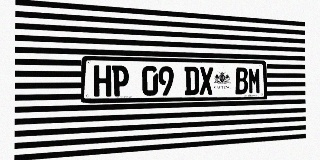0: (142, 66, 158, 96)
9: (158, 66, 174, 96)
B: (235, 67, 248, 94)
D: (184, 67, 199, 95)
H: (94, 65, 111, 97)
M: (248, 68, 261, 94)
P: (112, 65, 129, 96)
X: (199, 67, 213, 95)
